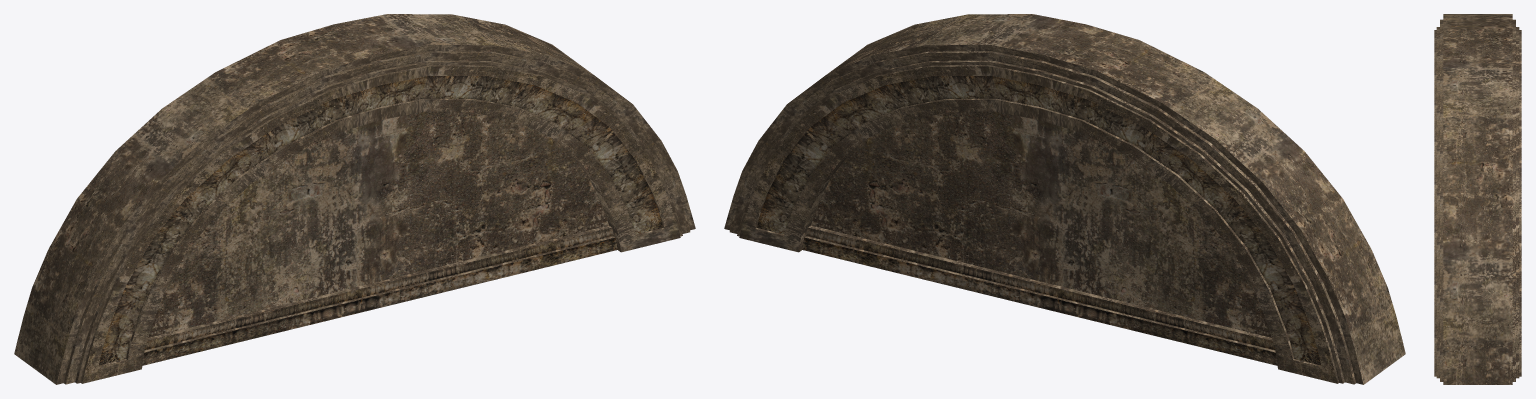
The model's file is materials_5_roof_12.fbx.
3 renders of one model, left to right at view 1: azimuth 30°, elevation 25°; view 2: azimuth 150°, elevation 25°; view 3: azimuth 270°, elevation 25°, orthographic. The views are drawn at different scales.
Parts seen in each view (by area): view 1: materials_5_roof_12; view 2: materials_5_roof_12; view 3: materials_5_roof_12.
Boxes of the visible parts, x1,y1,x2,y2 form: materials_5_roof_12: (14, 14, 695, 384); materials_5_roof_12: (724, 14, 1405, 384); materials_5_roof_12: (1434, 14, 1521, 384).
Size of the model in its own units: 515 by 194 by 73.97.
